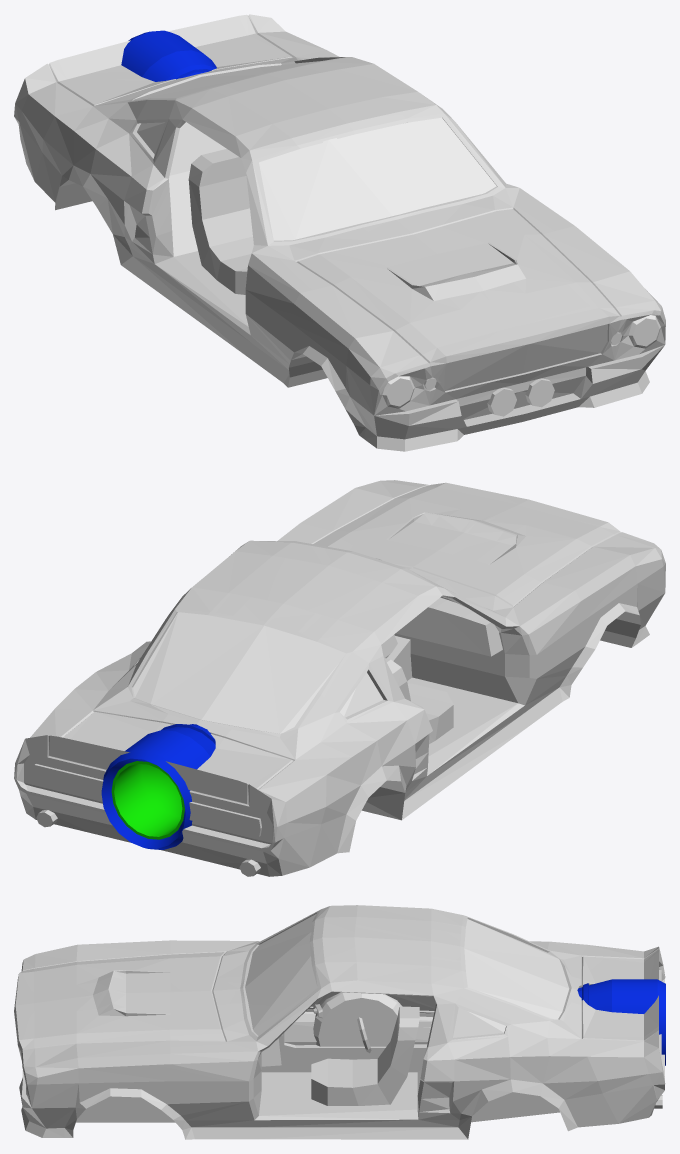
File: Muscle car.fbx
3 views of the same model, one above another, from view 1: azimuth 30°, elevation 25°; view 2: azimuth 150°, elevation 25°; view 3: azimuth 270°, elevation 25° (orthographic). The views are drawn at different scales.
Visible parts, largest first — view 1: Hull; view 2: Hull; view 3: Hull, Tire, door_fl, door_fr.
Boxes of the visible parts, left/top/right/bottom form: Hull: left=14, top=14, right=665, bottom=451; Hull: left=14, top=480, right=665, bottom=876; Hull: left=14, top=905, right=665, bottom=1139; Tire: left=313, top=992, right=402, bottom=1046; door_fl: left=284, top=1004, right=432, bottom=1045; door_fr: left=307, top=991, right=435, bottom=1016.
Size of what is drawn, in the model's own units: 2.74 by 1.47 by 6.01.
